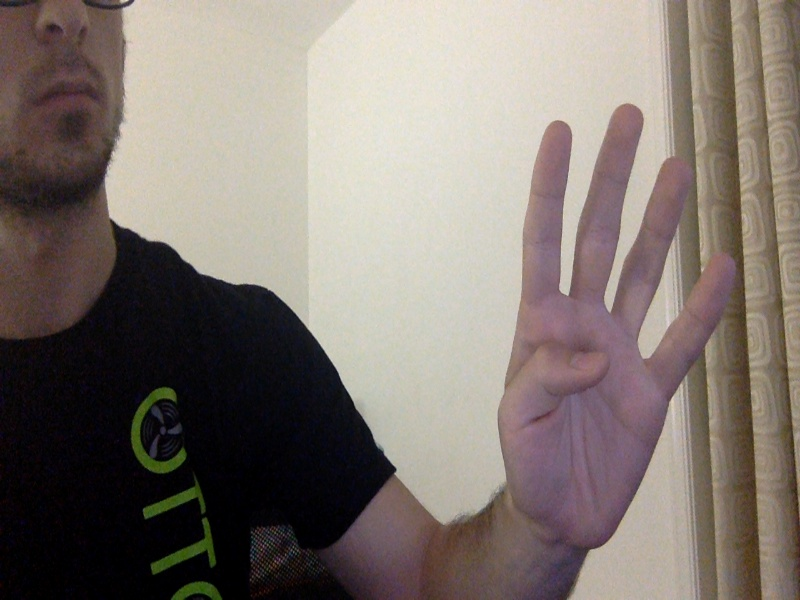4-hand: (501, 103, 736, 568)
